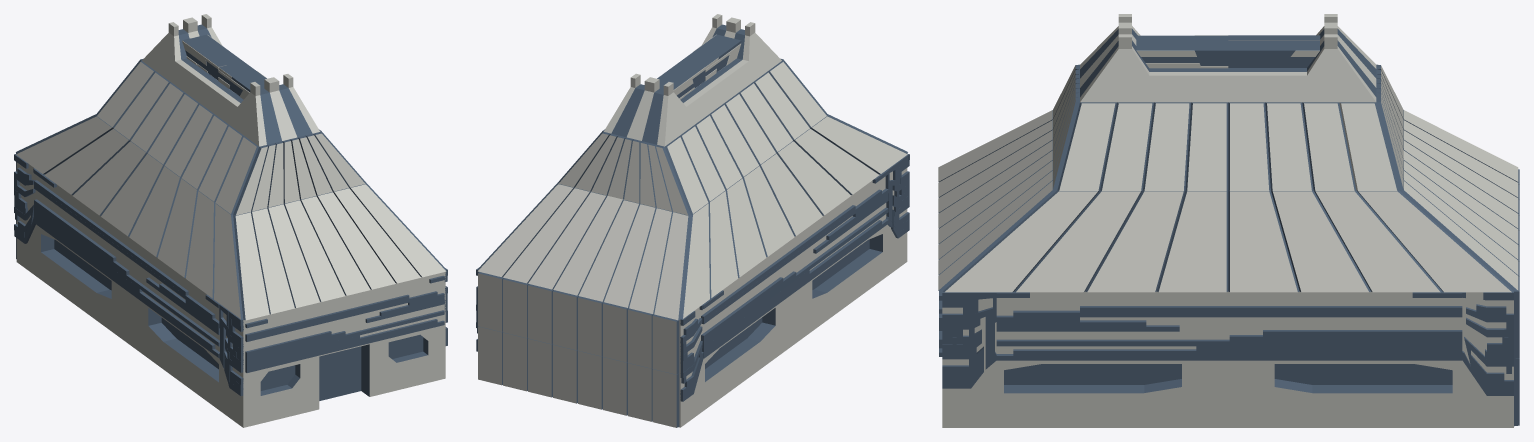
File: Building_08.fbx
The picture shows the model from 3 angles, left to right: view 1: azimuth 30°, elevation 25°; view 2: azimuth 150°, elevation 25°; view 3: azimuth 270°, elevation 25°; orthographic projection. The views are drawn at different scales.
Visible parts, largest first — view 1: Building_08_MId, Building_08_Base, Building_08_Details; view 2: Building_08_MId, Building_08_Base, Building_08_Window, Building_08_Details; view 3: Building_08_MId, Building_08_Base, Building_08_Details, Building_08_Window.
Part boxes in pixels (x1,y1,x2,y2): Building_08_MId: [16, 58, 446, 320]; Building_08_Base: [16, 14, 445, 427]; Building_08_Details: [14, 34, 447, 395]; Building_08_MId: [478, 58, 907, 320]; Building_08_Base: [604, 14, 907, 427]; Building_08_Window: [478, 272, 679, 427]; Building_08_Details: [476, 34, 909, 401]; Building_08_MId: [938, 64, 1518, 292]; Building_08_Base: [942, 14, 1513, 427]; Building_08_Details: [939, 35, 1513, 395]; Building_08_Window: [1514, 169, 1519, 426].
Bounding box in the file's own units: 618 × 765 × 1186.
